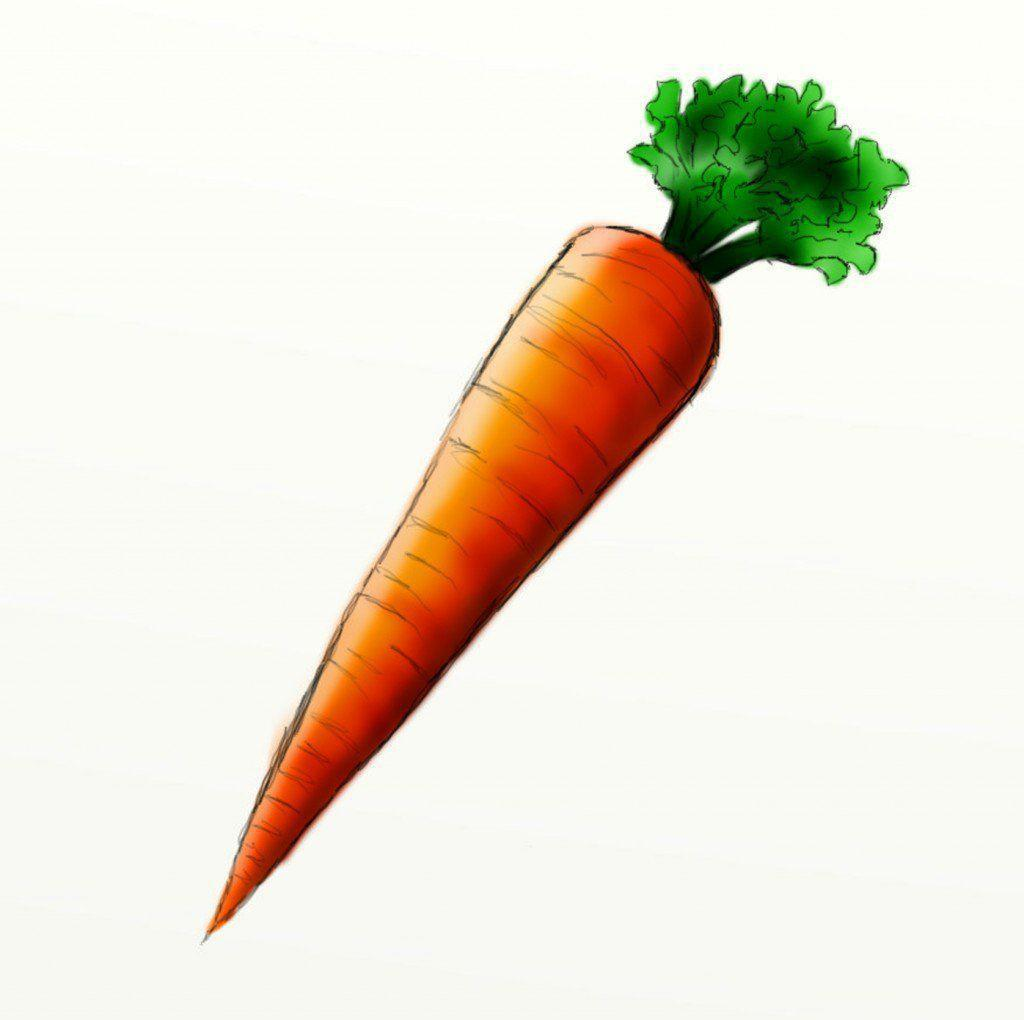carrot: (167, 71, 914, 948)
